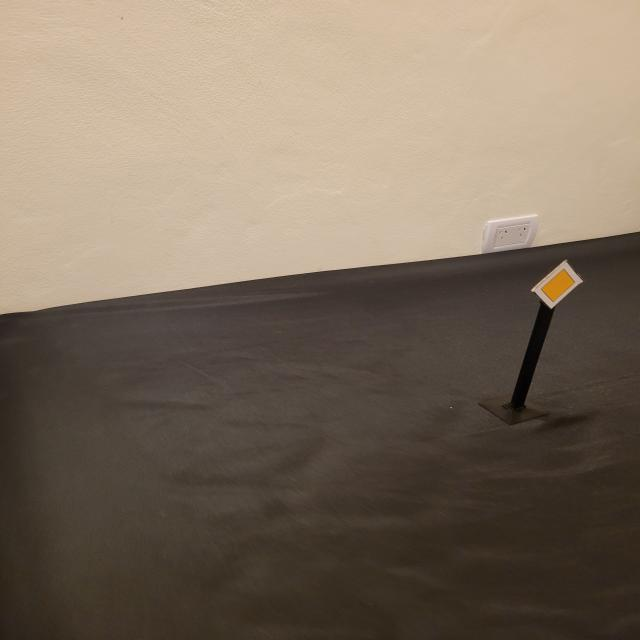priority: (529, 260, 584, 310)
